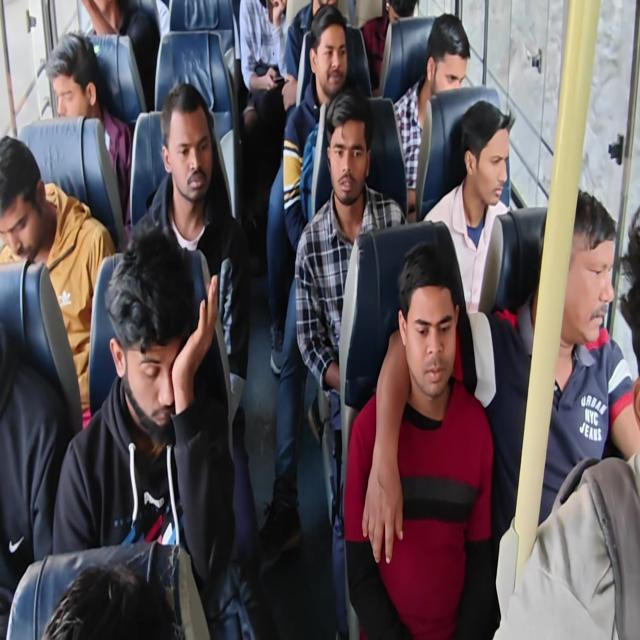person: (99, 252, 195, 431), (542, 204, 614, 348), (393, 271, 462, 392), (454, 96, 515, 217), (421, 12, 476, 128), (0, 131, 52, 249), (323, 97, 370, 215), (162, 96, 210, 210), (41, 39, 98, 130), (312, 22, 352, 88), (377, 0, 420, 39), (76, 0, 116, 32), (304, 0, 342, 33)
